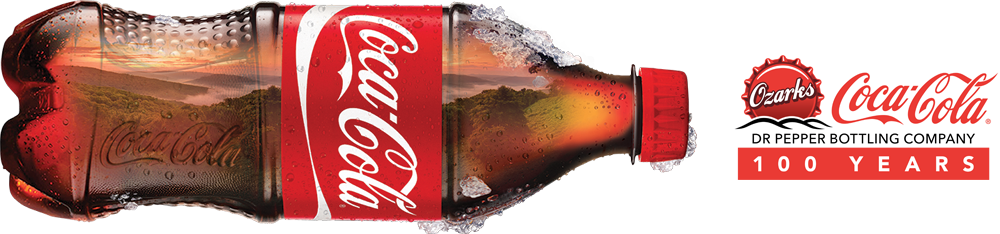Coca-Cola: (1, 1, 698, 224)
